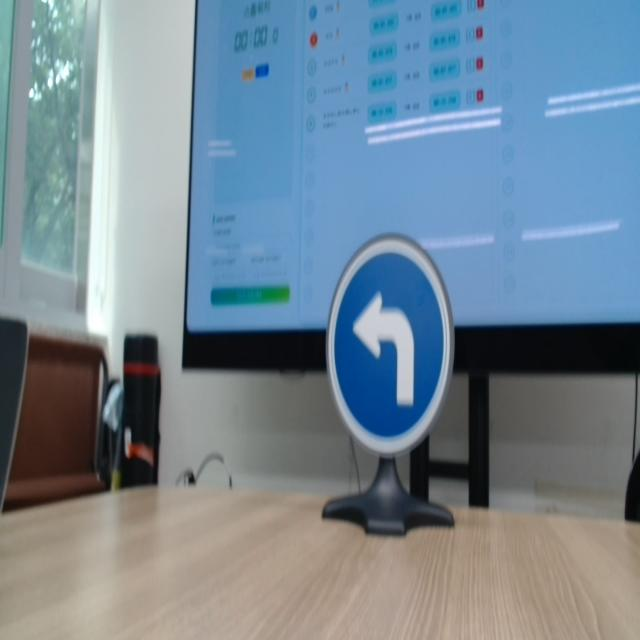left_direction: (321, 224, 464, 466)
